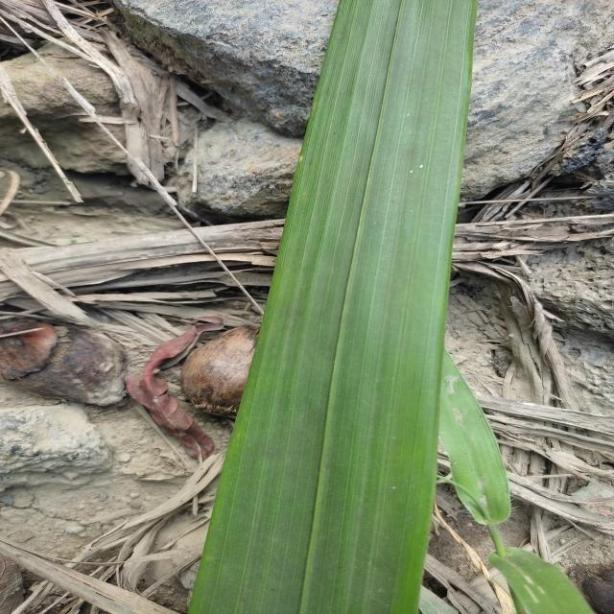Healthy: (185, 1, 473, 614)
